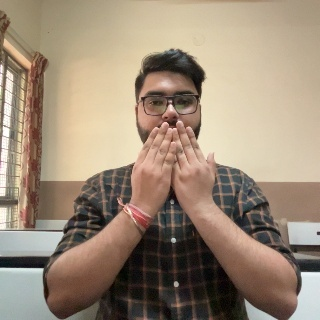Thank You: (129, 119, 226, 218)
